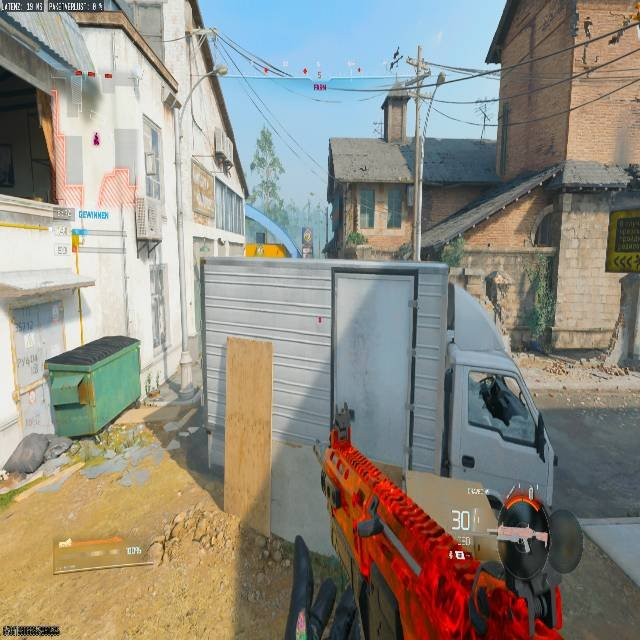player: (330, 401, 355, 446), (299, 230, 314, 260)
